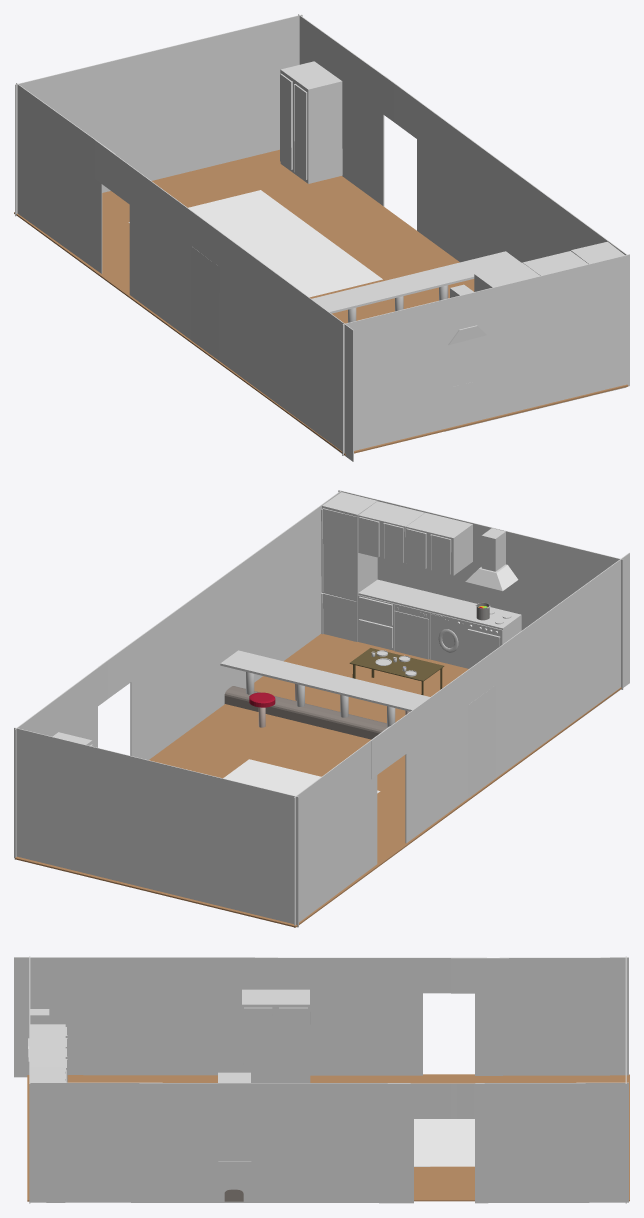
File: Wohnzimmer.fbx
3 renders of one model, top to bottom at view 1: azimuth 30°, elevation 25°; view 2: azimuth 150°, elevation 25°; view 3: azimuth 270°, elevation 25°, orthographic. The views are drawn at different scales.
Visible parts, largest first — view 1: Cube.023, Cube.051, Cube.053, Cube.041, Cube.043, Cube.052, Cube.054, Cube.042, Cube.050, Cube.045, Cube.055, Cube.031 (+5 smaller); view 2: Cube.053, Cube.051, Cube.043, Cube.041, Cube.052, Cube.023, Cube.042, Cube.045, Cube.034, Cube.044, Cube, Cube.055 (+18 smaller); view 3: Cube.043, Cube.051, Cube.052, Cube.042, Cube.041, Cube.054, Cube.055, Cube.057, Cube.056, Cube.028, Cube.018, Cube.031 (+3 smaller).
Boxes of the visible parts, <box> form: Cube.023: <box>342,254,629,455</box>; Cube.051: <box>94,140,353,461</box>; Cube.053: <box>15,14,302,216</box>; Cube.041: <box>14,149,628,455</box>; Cube.043: <box>384,76,626,262</box>; Cube.052: <box>16,83,115,273</box>; Cube.054: <box>128,190,382,297</box>; Cube.042: <box>298,14,397,206</box>; Cube.050: <box>280,61,342,183</box>; Cube.045: <box>311,251,520,313</box>; Cube.055: <box>191,246,219,360</box>; Cube.031: <box>571,241,626,395</box>; Cube.053: <box>14,727,298,927</box>; Cube.051: <box>371,552,629,843</box>; Cube.043: <box>98,491,341,759</box>; Cube.041: <box>15,634,621,927</box>; Cube.052: <box>294,726,389,927</box>; Cube.023: <box>338,490,623,689</box>; Cube.042: <box>14,658,109,859</box>; Cube.045: <box>220,650,429,711</box>; Cube.034: <box>322,508,356,600</box>; Cube.044: <box>224,686,386,739</box>; Cube: <box>358,579,521,629</box>; Cube.055: <box>468,685,496,798</box>; Cube.043: <box>30,1082,474,1203</box>; Cube.051: <box>14,957,486,1077</box>; Cube.052: <box>451,957,628,1075</box>; Cube.042: <box>451,1082,628,1203</box>; Cube.041: <box>27,1074,629,1201</box>; Cube.054: <box>414,1119,474,1166</box>; Cube.055: <box>242,989,310,1082</box>; Cube.057: <box>280,1007,307,1082</box>; Cube.056: <box>243,1007,270,1082</box>; Cube.028: <box>30,1024,65,1045</box>; Cube.018: <box>30,1046,65,1067</box>; Cube.031: <box>30,1067,65,1202</box>.
Size of the model in its own units: 3196 by 1409 by 6522.
